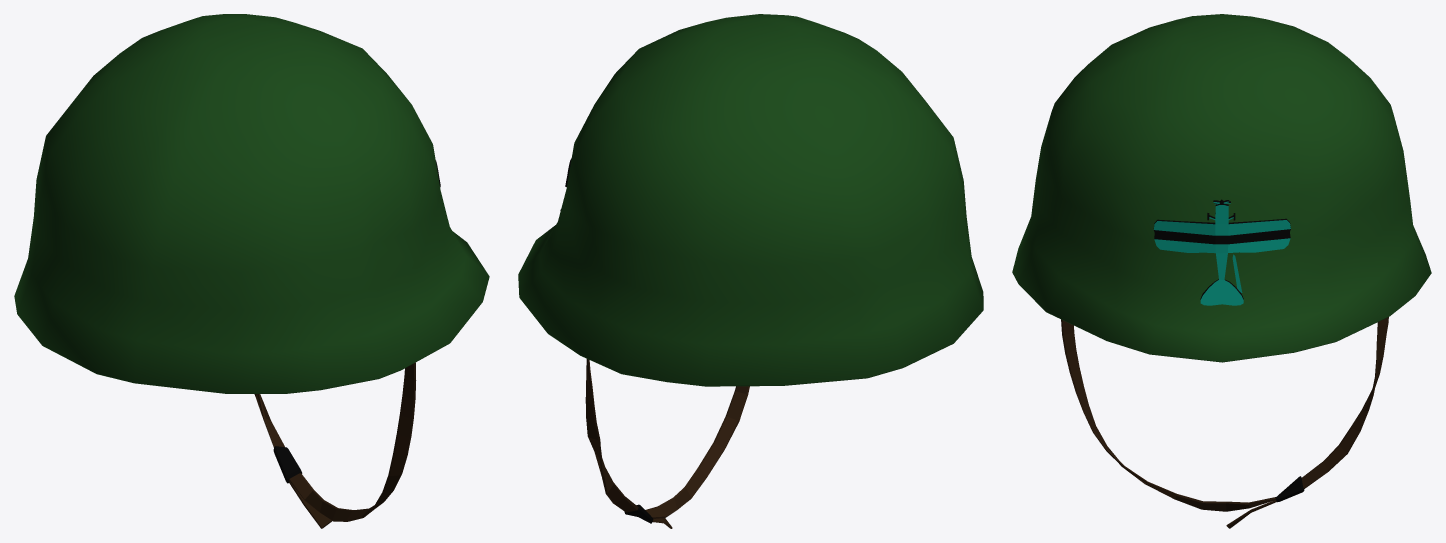
File: Helm.fbx
3 renders of one model, left to right at view 1: azimuth 30°, elevation 25°; view 2: azimuth 150°, elevation 25°; view 3: azimuth 270°, elevation 25°, orthographic. The views are drawn at different scales.
Parts seen in each view (by area): view 1: BézierCurve; view 2: BézierCurve; view 3: BézierCurve.
Part boxes in pixels (x1=…): BézierCurve: x1=14, y1=14, x2=489, y2=528; BézierCurve: x1=518, y1=14, x2=983, y2=528; BézierCurve: x1=1012, y1=14, x2=1431, y2=528.
Bounding box in the file's own units: 232 × 267 × 221.
